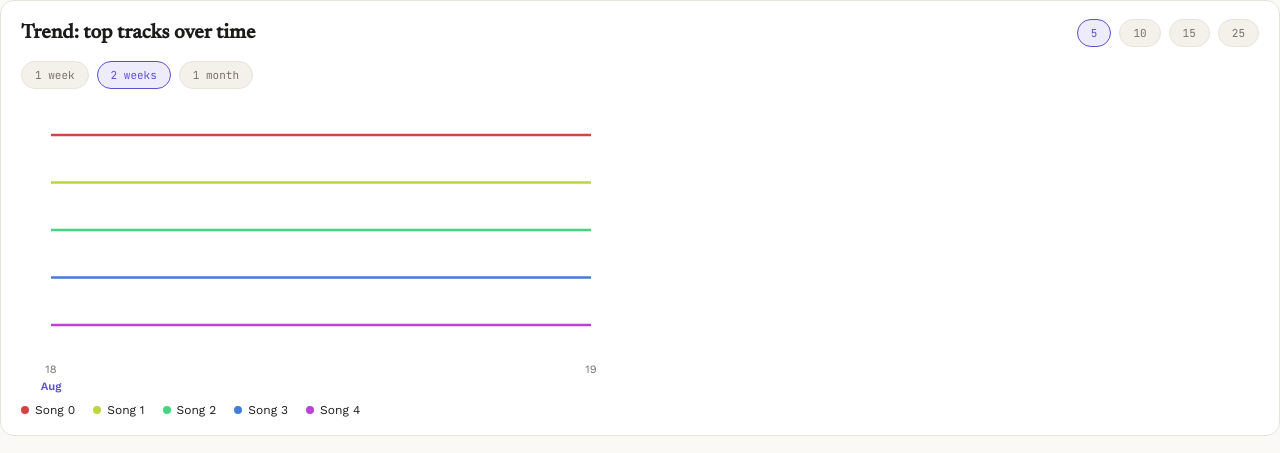
TrendChart › defaults to tracking 5 items and switches count without an extra fetch
This screenshot has width=1280, height=453.
Expected: the number of list items is 5, [21,402,75,416]; [93,402,145,416]; [162,402,216,416]; [234,402,288,416]; [306,402,360,416]
Click the button "10" at {"x": 1140, "y": 33}, box [1119,19,1161,47]
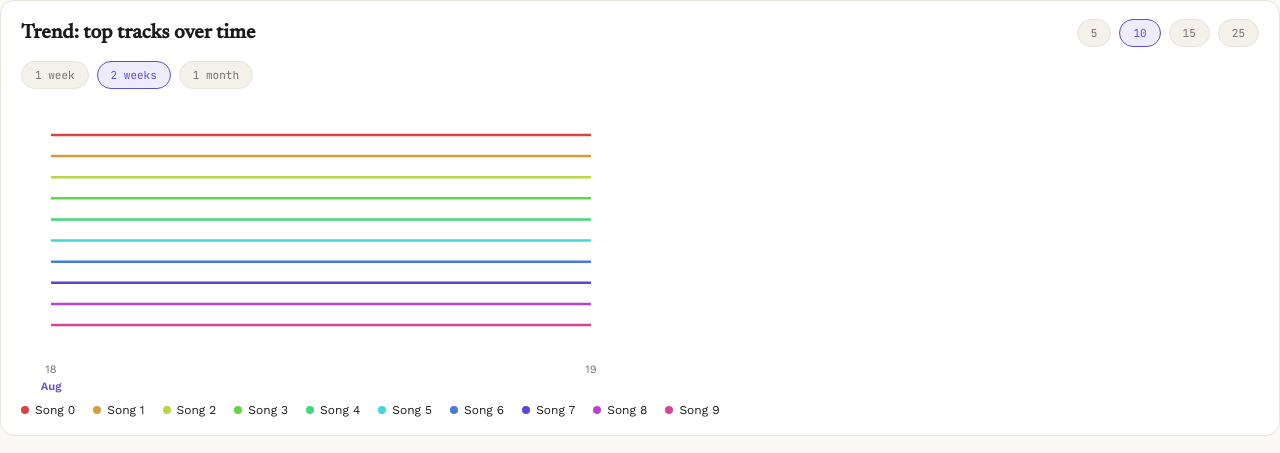
Expected: the number of list items is 10
